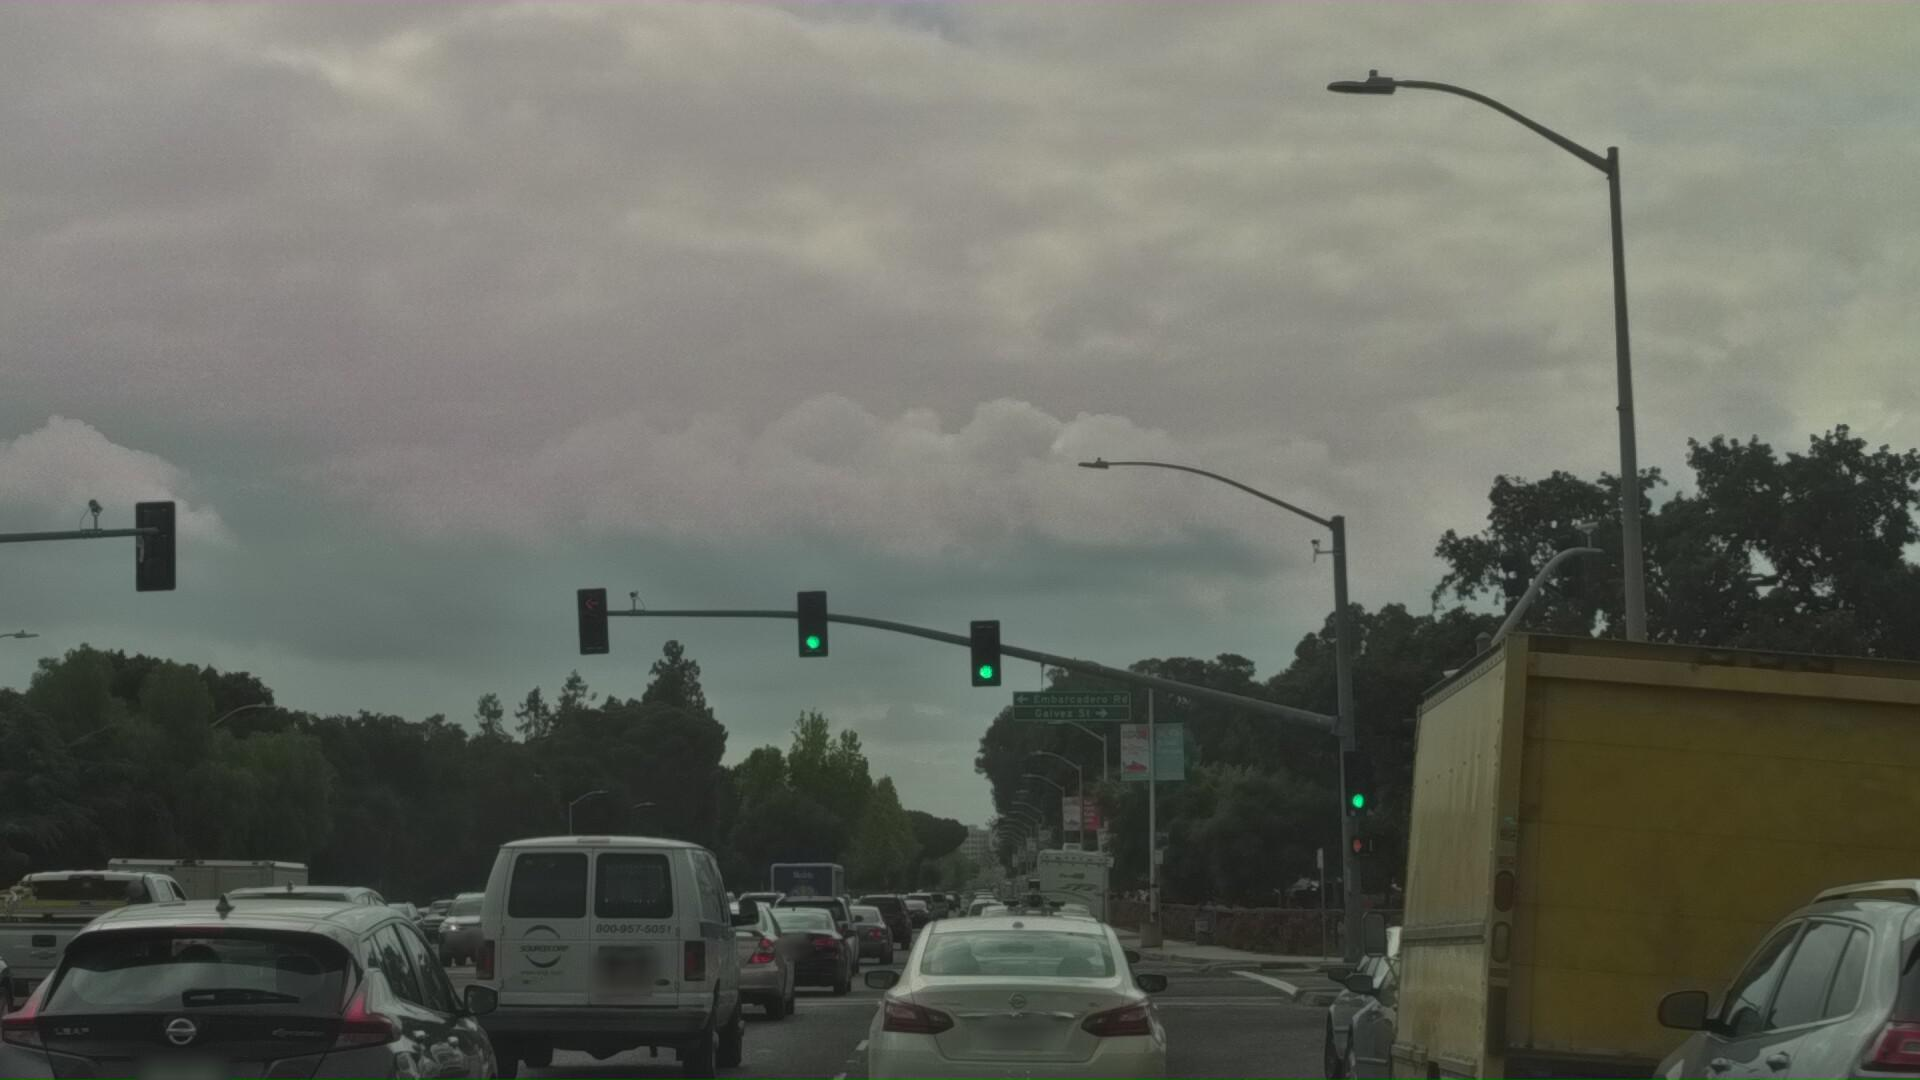car: (1578, 876, 1920, 1080), (0, 955, 526, 1080), (468, 903, 752, 1080), (1313, 992, 1687, 1080), (0, 942, 233, 1080), (204, 963, 467, 1080), (869, 985, 1168, 1080), (923, 961, 1156, 1080), (1302, 988, 1594, 1080), (636, 988, 800, 1080), (733, 997, 855, 1080), (767, 984, 866, 1073), (429, 986, 535, 1062), (808, 1000, 890, 1069), (0, 953, 36, 1080)
truck: (1315, 644, 1920, 1080), (71, 931, 343, 1080)
